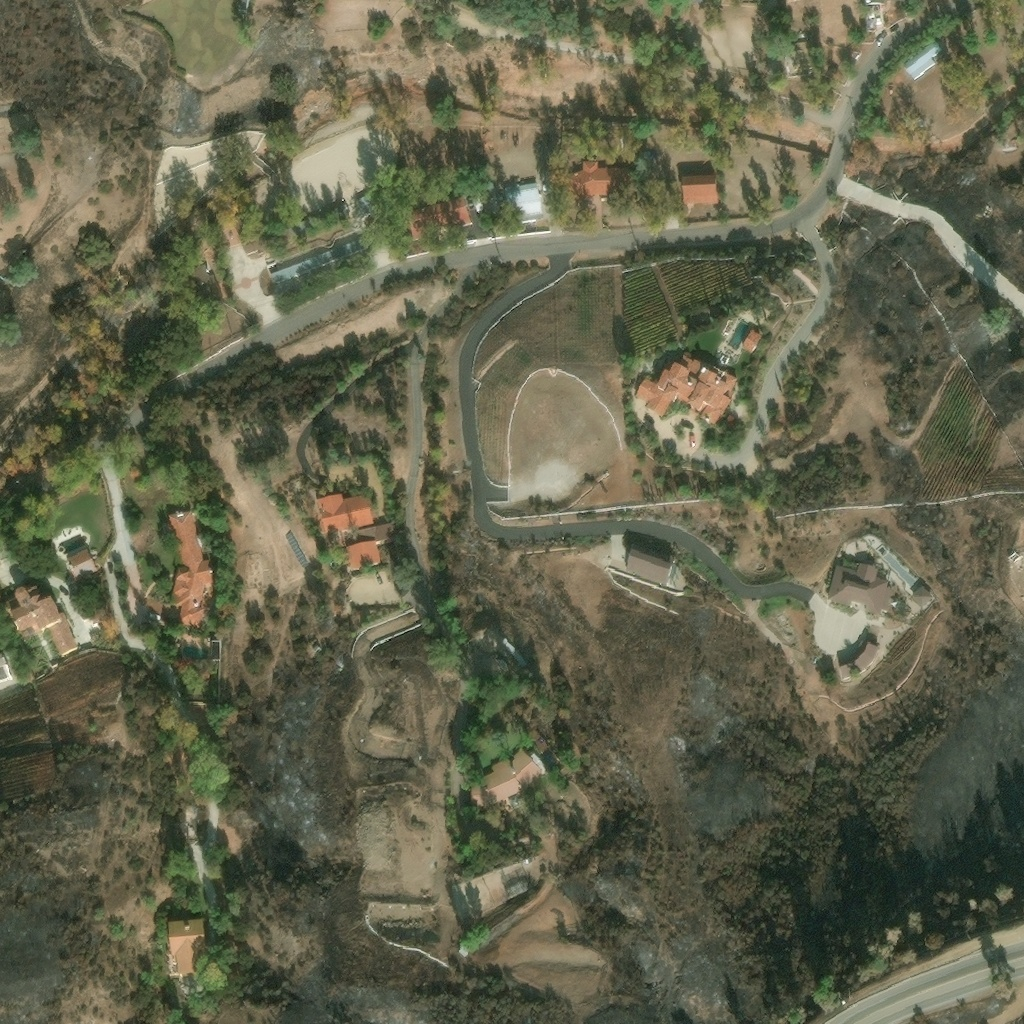0 no-damage: (634, 352, 739, 428), (167, 510, 215, 629), (271, 238, 365, 286), (828, 565, 893, 618), (405, 195, 473, 242), (2, 583, 64, 634), (342, 522, 398, 572), (561, 161, 630, 200), (317, 494, 375, 535), (166, 919, 207, 976), (626, 545, 675, 584), (506, 182, 545, 225), (902, 41, 943, 81), (841, 641, 880, 677), (49, 611, 80, 655), (65, 548, 101, 583), (680, 175, 718, 206), (192, 265, 221, 299), (476, 168, 497, 212), (285, 532, 308, 569), (911, 587, 934, 609), (356, 195, 378, 218), (742, 330, 762, 353), (0, 654, 13, 681), (238, 0, 250, 14), (865, 0, 884, 5), (1012, 146, 1018, 150)
1 minor-damage: (472, 759, 526, 815), (511, 750, 544, 793), (529, 753, 547, 778)
3 destroyed: (501, 638, 529, 672), (504, 874, 535, 900)
4 un-classified: (789, 42, 810, 64), (186, 803, 198, 839), (298, 219, 312, 235), (191, 705, 206, 715)
